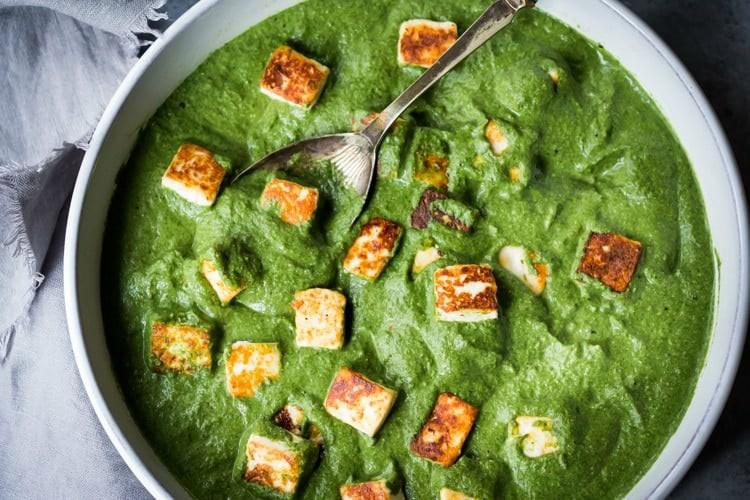PalakPaneer: (97, 0, 715, 500)
